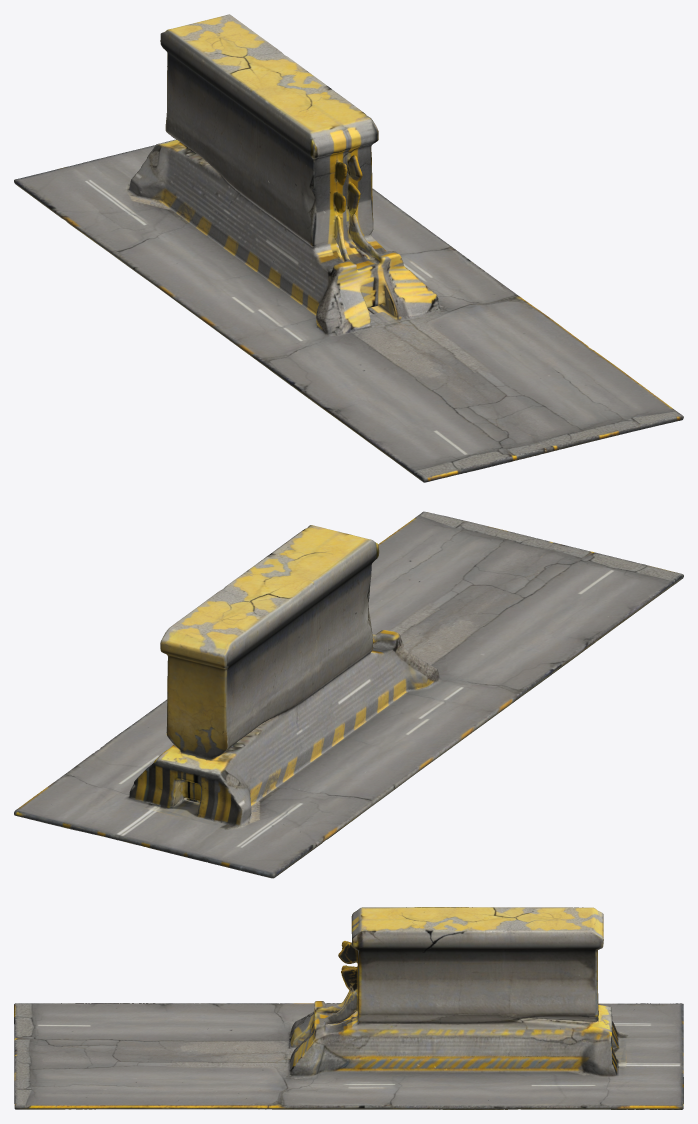
Rendered from Meshy_AI_A_single_broken_concr_0126215832_texture.glb.
3 views of the same model, one above another, from view 1: azimuth 30°, elevation 25°; view 2: azimuth 150°, elevation 25°; view 3: azimuth 270°, elevation 25° (orthographic). The views are drawn at different scales.
Size of the model in its own units: 0.7362 by 0.4614 by 2.
Materials: 1 (1 with a texture image).
